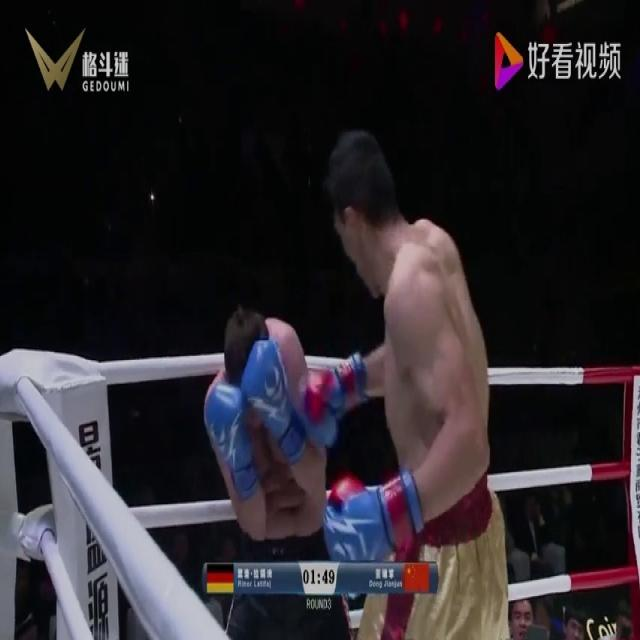fight: (176, 113, 530, 639)
